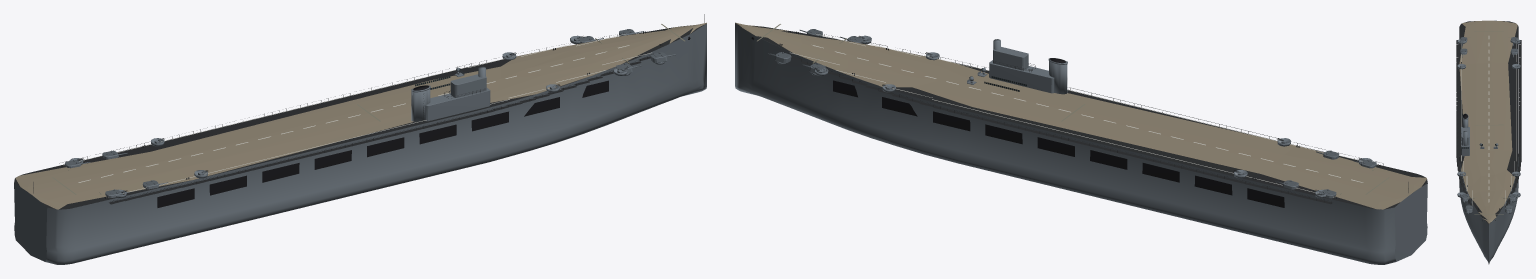
The model's file is lexington_lod.glb.
3 renders of one model, left to right at view 1: azimuth 30°, elevation 25°; view 2: azimuth 150°, elevation 25°; view 3: azimuth 270°, elevation 25°, orthographic. The views are drawn at different scales.
Visible parts, largest first — view 1: lexington_lod; view 2: lexington_lod; view 3: lexington_lod.
Part boxes in pixels (x1=…): lexington_lod: x1=14, y1=14, x2=706, y2=264; lexington_lod: x1=735, y1=22, x2=1427, y2=264; lexington_lod: x1=1456, y1=20, x2=1521, y2=264.
Bounding box in the file's own units: 271 × 36.49 × 36.23.
